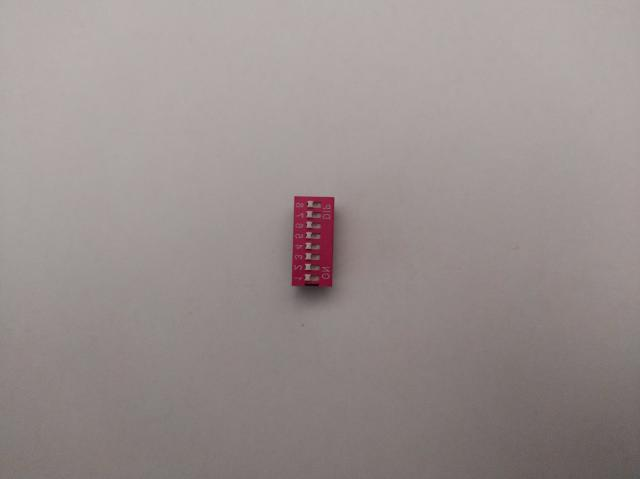dip_switch: (292, 197, 334, 287)
